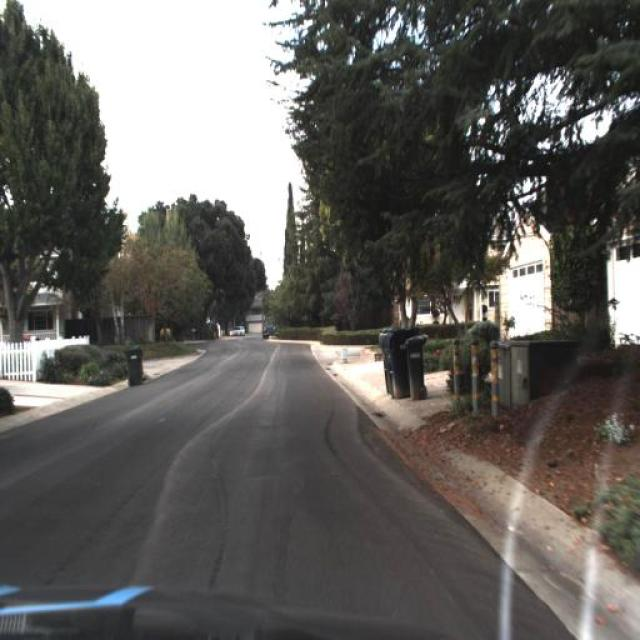car: (263, 316, 281, 340), (233, 326, 242, 336)
